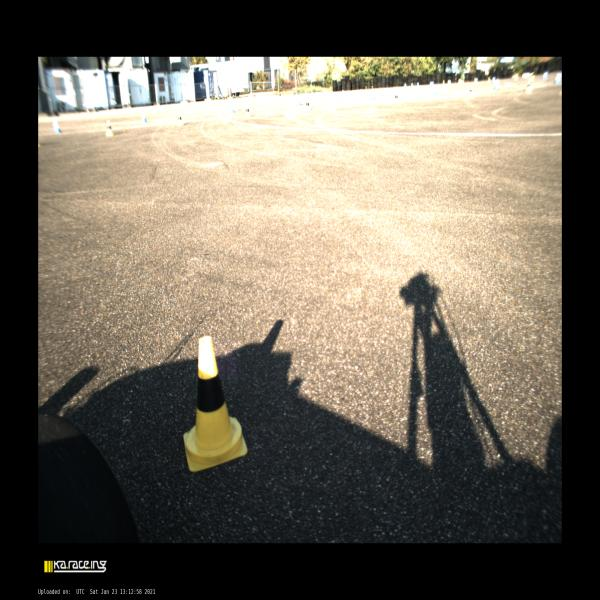blue_cone: (53, 120, 61, 133), (296, 96, 302, 106), (141, 113, 147, 122), (494, 80, 499, 90), (554, 72, 558, 84), (230, 103, 235, 112), (433, 87, 438, 94), (542, 72, 546, 80), (371, 93, 376, 99)
yellow_cone: (182, 335, 249, 473), (106, 120, 114, 136), (176, 113, 184, 126), (244, 105, 252, 118), (525, 80, 532, 94), (305, 99, 311, 111), (468, 86, 474, 98), (394, 92, 399, 102)
